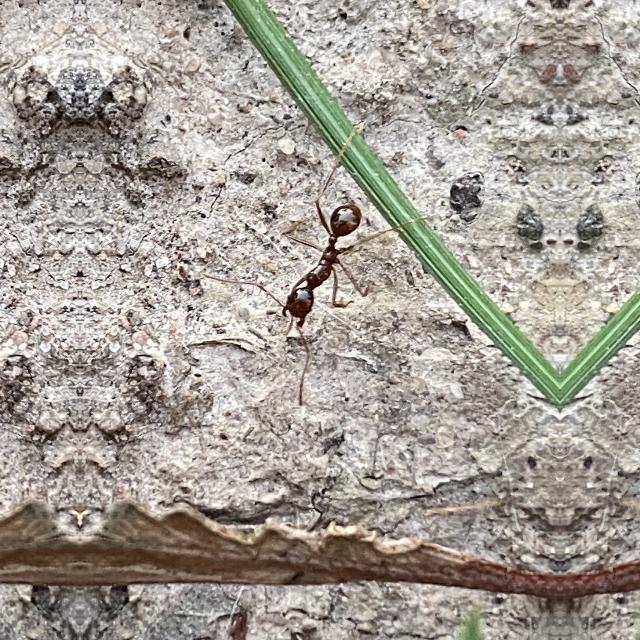Apheanogaster: (262, 184, 376, 358)
